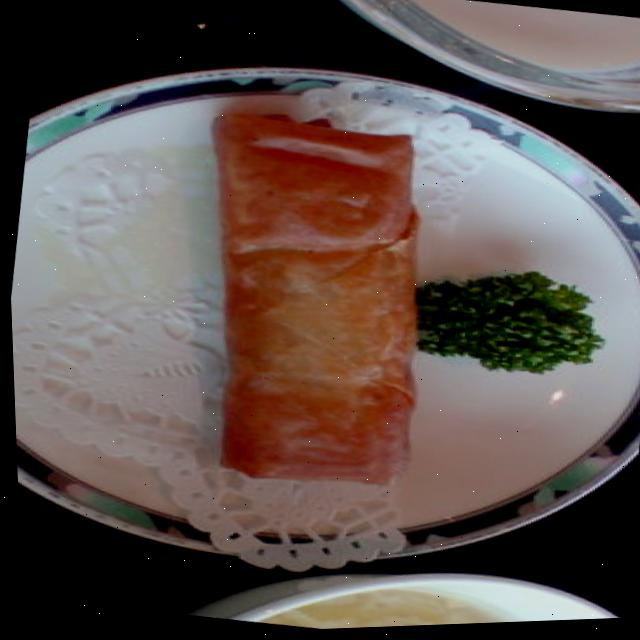鸡蛋料理: (159, 112, 447, 515)
